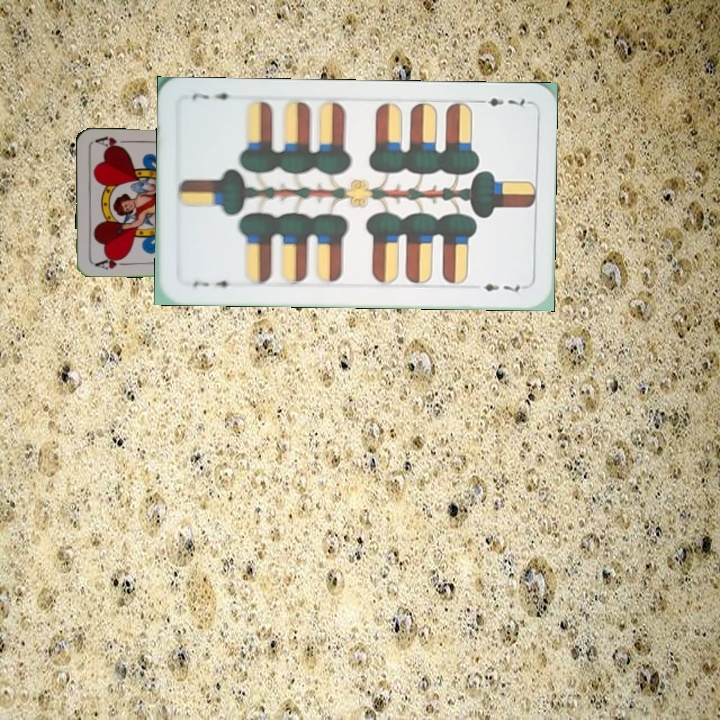E7: (472, 94, 531, 111), (188, 276, 238, 290)
HA: (91, 252, 130, 272)
